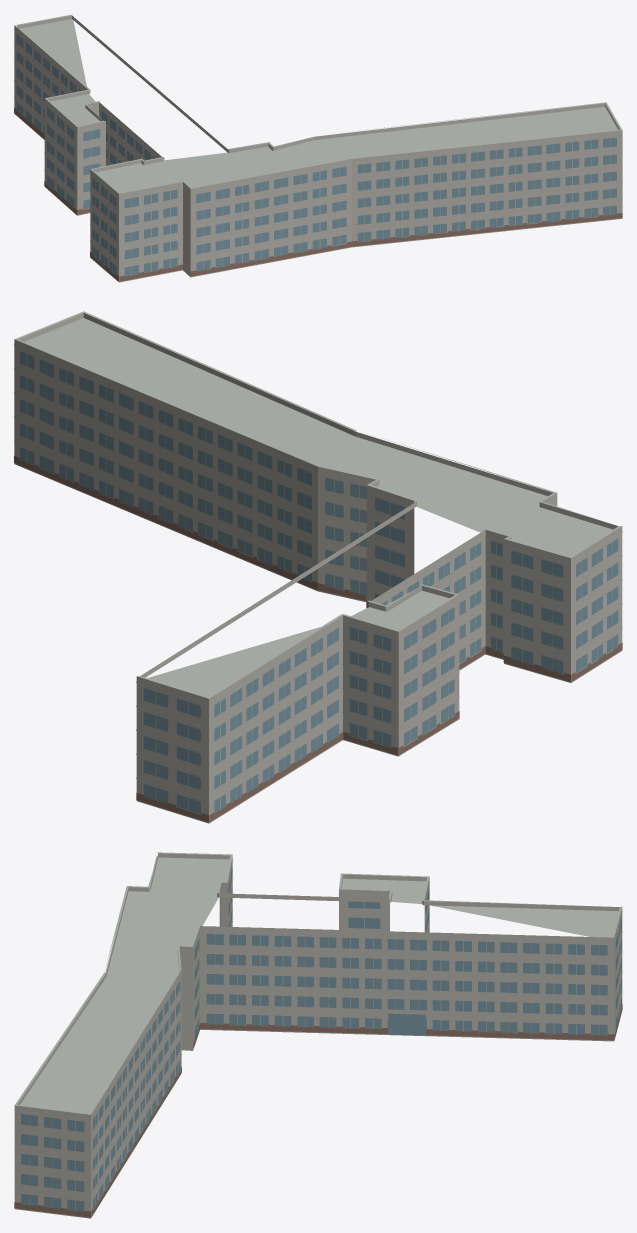
The model's file is public-4ac43ef9-f03d-4024-a6c7-dcf17b041fea.glb.
The picture shows the model from 3 angles, top to bottom: view 1: azimuth 30°, elevation 25°; view 2: azimuth 150°, elevation 25°; view 3: azimuth 270°, elevation 25°; orthographic projection. The views are drawn at different scales.
Parts seen in each view (by area): view 1: public-4ac43ef9-f03d-4024-a6c7-dcf17b041fea; view 2: public-4ac43ef9-f03d-4024-a6c7-dcf17b041fea; view 3: public-4ac43ef9-f03d-4024-a6c7-dcf17b041fea.
Part boxes in pixels (bbox=[...]): public-4ac43ef9-f03d-4024-a6c7-dcf17b041fea: bbox=[14, 14, 622, 282]; public-4ac43ef9-f03d-4024-a6c7-dcf17b041fea: bbox=[14, 311, 622, 823]; public-4ac43ef9-f03d-4024-a6c7-dcf17b041fea: bbox=[14, 852, 622, 1218].
Size of the model in its own units: 82.87 by 15.25 by 81.1.
